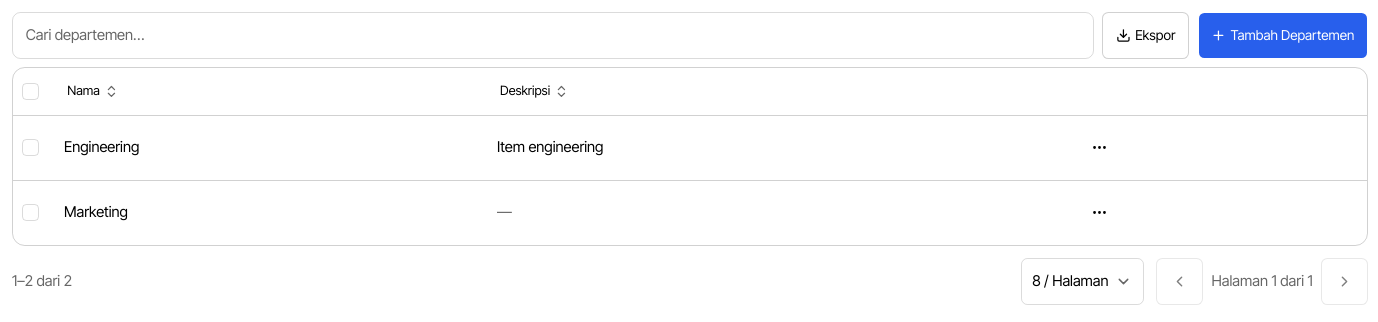
Test: DepartmentsSection › filters departments by search
Expected: the text "Engineering" is shown, [64,138,139,156]
Type "Marketing" into the search field with placeholder "Cari departemen…" at (553, 35), box [12,12,1094,59]
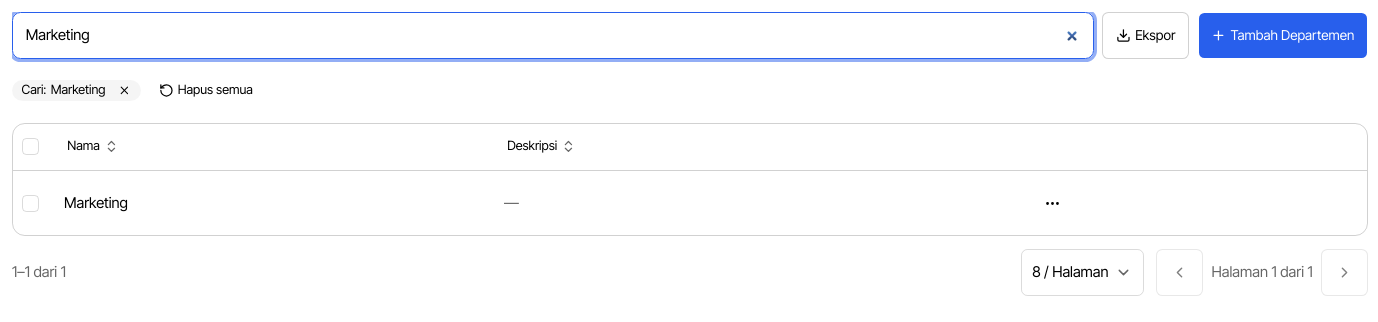
Now the text "Marketing" next to "Cari" is shown, box [51,82,106,97]
Now the text "Engineering" is gone
